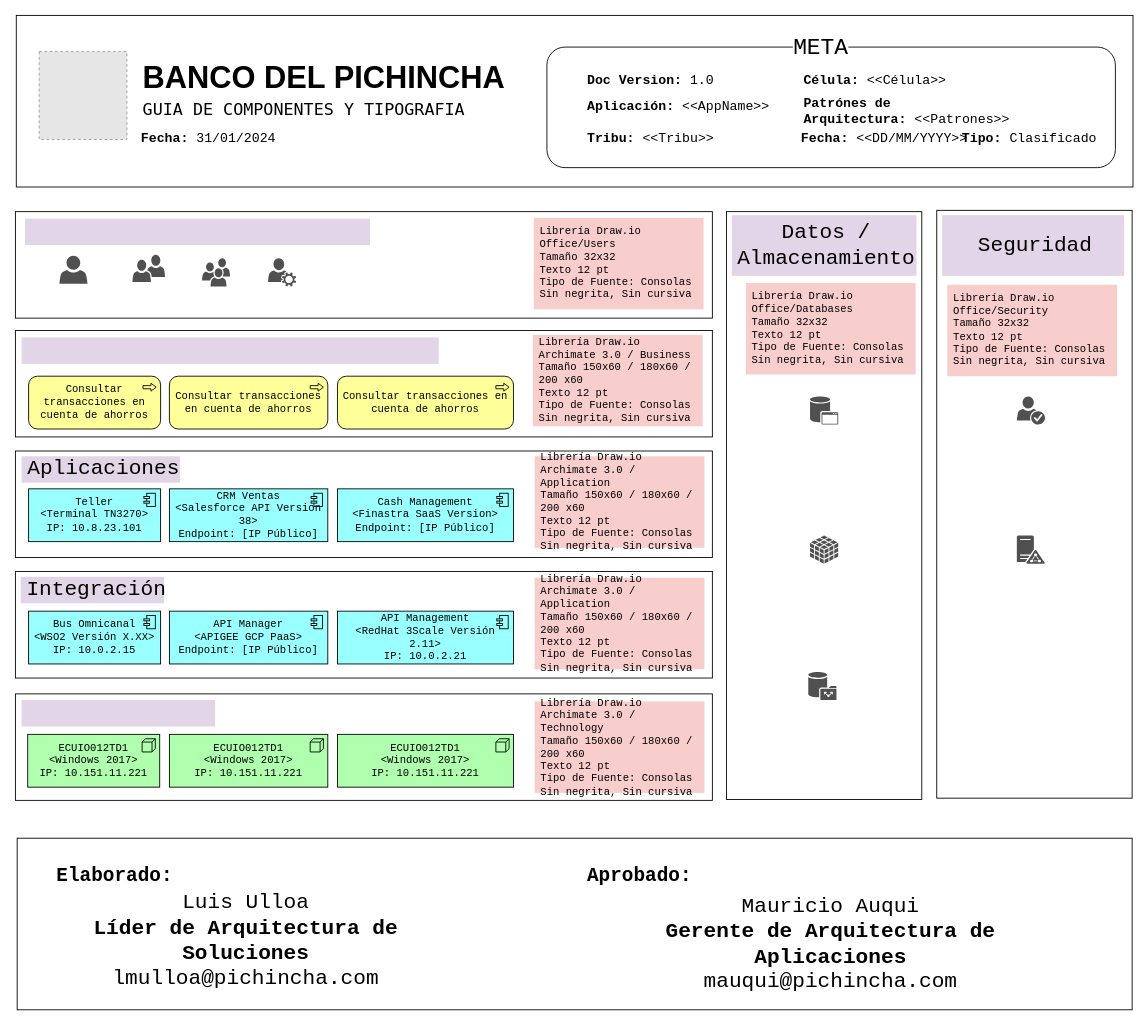
This 1148x1025 diagram has some shape labels left out. Grey dashed boxes stand in for pictures. The shapes that lost their labels are listed below. From the top down, each one's centre as x and y in pixels, then its label:
At (x=197, y=231): "Usuarios internos / externos".
At (x=73, y=269): "Usuario".
At (x=148, y=268): "Grupo de usuarios".
At (x=216, y=272): "Equipo".
At (x=282, y=272): "Usuario técnico".
At (x=229, y=350): "Procesos de negocio / Actividades".
At (x=824, y=410): "BD CRM Ventas <SQL Server 2023> IP: 10.11.51.143".
At (x=1030, y=410): "Credenciales de usuario <Banca Web front-end> IP Dinámico Cliente".
At (x=824, y=549): "Repositorio Analítico Ventas <GCP Bigquery> Endpoint: [IP Público]".
At (x=1030, y=549): "Servidor AD <Microsoft Active Directory> Endpoint: [IP Público]".
At (x=822, y=685): "Almacenamiento de respaldo <AWS S3> Bucket: [BP-Respaldos]".
At (x=118, y=713): "Infraestructura".
